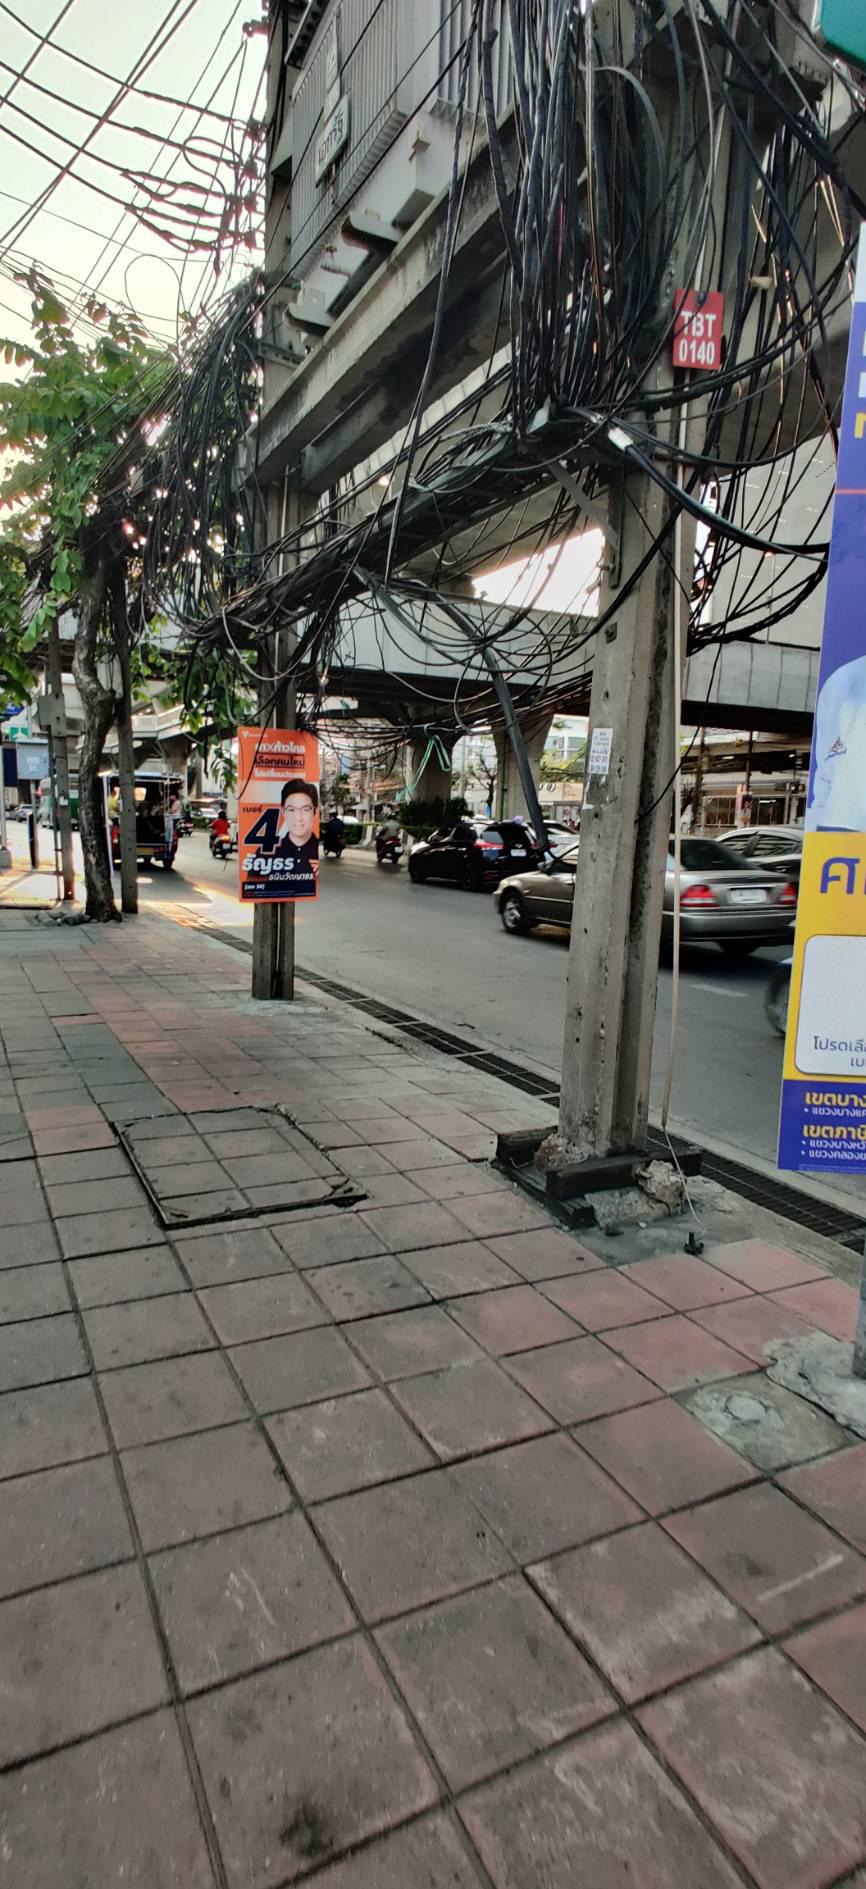Banner: (229, 720, 335, 911)
